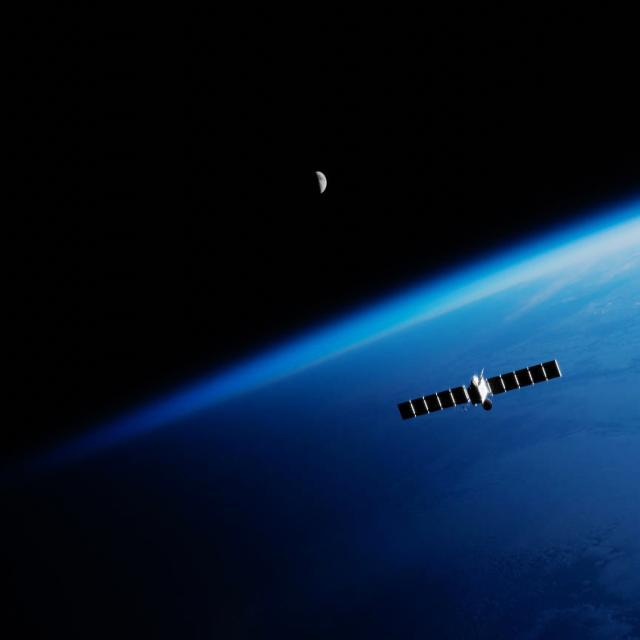satellite: (394, 353, 583, 434)
